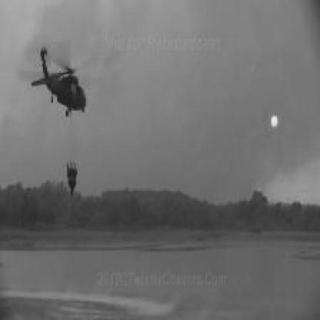other: (250, 100, 318, 204)
